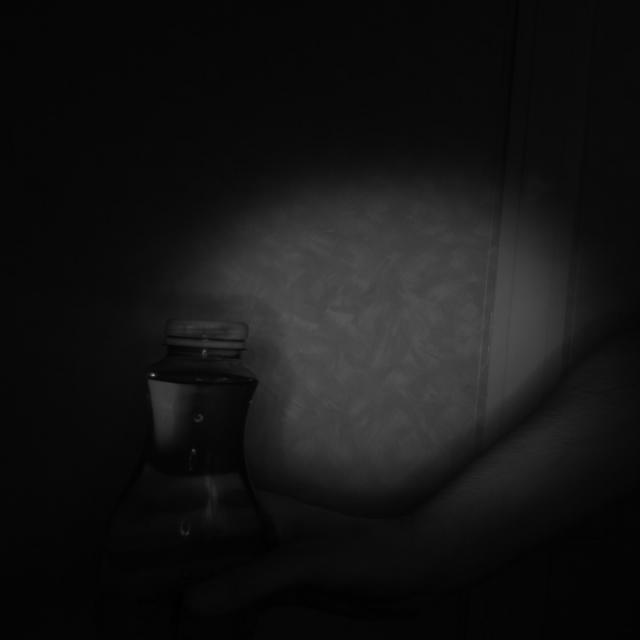Not Good: (169, 319, 246, 351)
